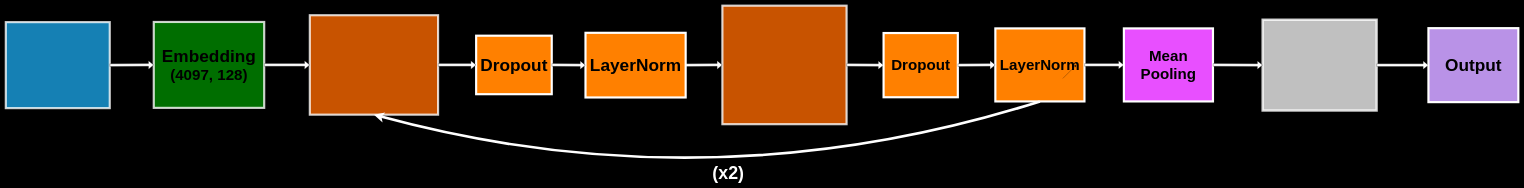
This 1524x188 diagram has some shape labels left out. The shapes that lost their labels are listed below. From the top down, each one's centre as x and y in pixels, then its label:
the point at 58,65: Input Sequence
the point at 374,65: Multi-head Attention
the point at 784,64: Feedforward Network (128, 512, 128)
the point at 1319,65: FC Layer Linear (128, 10)
